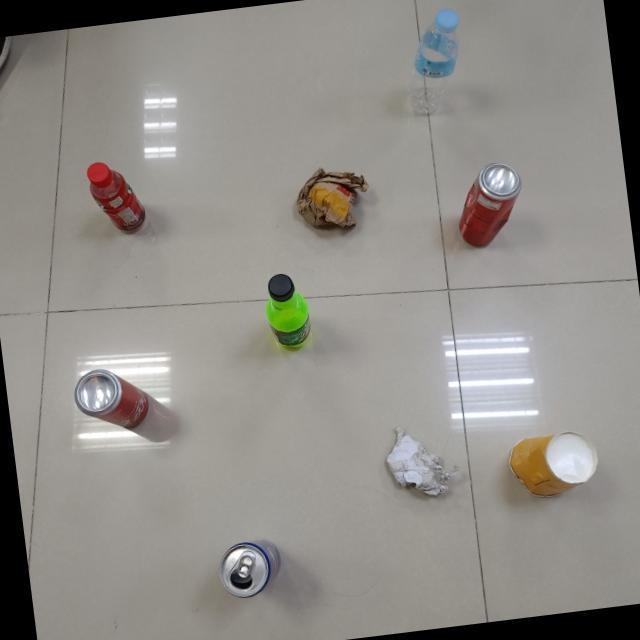recyclable waste: (392, 0, 478, 123), (443, 155, 538, 256), (498, 418, 606, 506), (376, 412, 467, 507), (284, 155, 378, 239), (65, 355, 156, 440), (80, 152, 152, 242), (255, 265, 319, 358), (211, 530, 290, 603)
